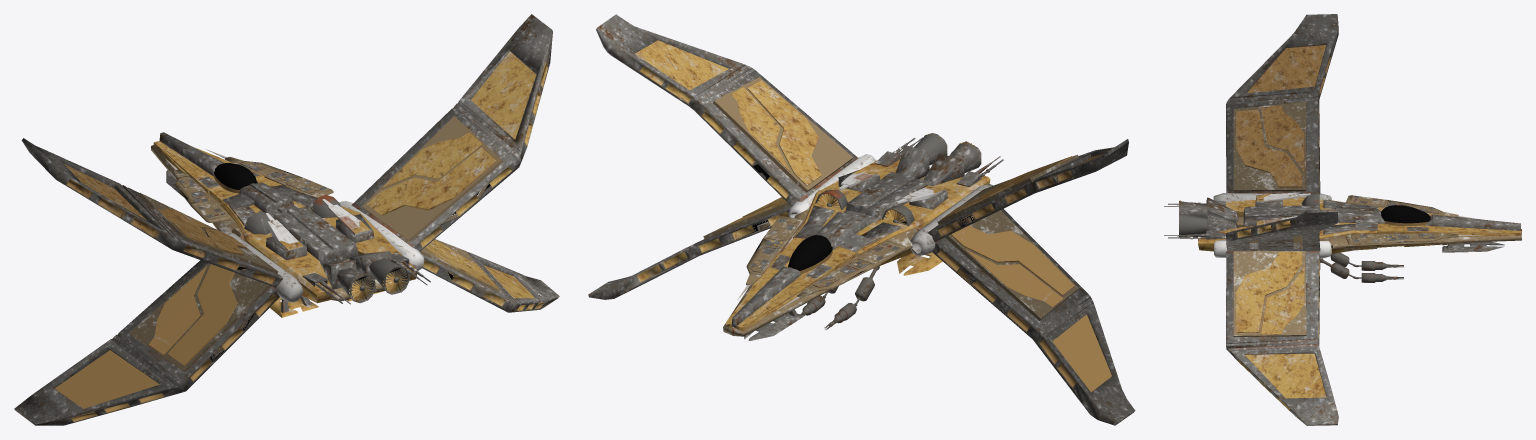
File: hero3.glb
3 views of the same model, side by side, from view 1: azimuth 30°, elevation 25°; view 2: azimuth 150°, elevation 25°; view 3: azimuth 270°, elevation 25° (orthographic). The views are drawn at different scales.
Parts seen in each view (by area): view 1: wing.001_Baked, wing_Baked, Base_spaceship_Baked, cockpit_Baked; view 2: Base_spaceship_Baked, wing.001_Baked, wing_Baked, cockpit_Baked, guns_Baked; view 3: wing_Baked, wing.001_Baked, Base_spaceship_Baked, guns_Baked, cockpit_Baked.
Boxes of the visible parts, <box> form: wing.001_Baked: <box>14,138,303,425</box>; wing_Baked: <box>340,14,559,312</box>; Base_spaceship_Baked: <box>151,132,430,317</box>; cockpit_Baked: <box>214,163,257,193</box>; Base_spaceship_Baked: <box>723,133,1003,340</box>; wing.001_Baked: <box>910,139,1135,425</box>; wing_Baked: <box>588,14,876,299</box>; cockpit_Baked: <box>788,235,832,274</box>; guns_Baked: <box>800,266,879,329</box>; wing_Baked: <box>1214,209,1338,425</box>; wing.001_Baked: <box>1213,14,1338,201</box>; Base_spaceship_Baked: <box>1164,192,1521,253</box>; guns_Baked: <box>1320,252,1403,282</box>; cockpit_Baked: <box>1381,205,1430,226</box>.
Bounding box in the file's own units: 46.88 × 23.15 × 35.05.
5 materials, 5 textured.
